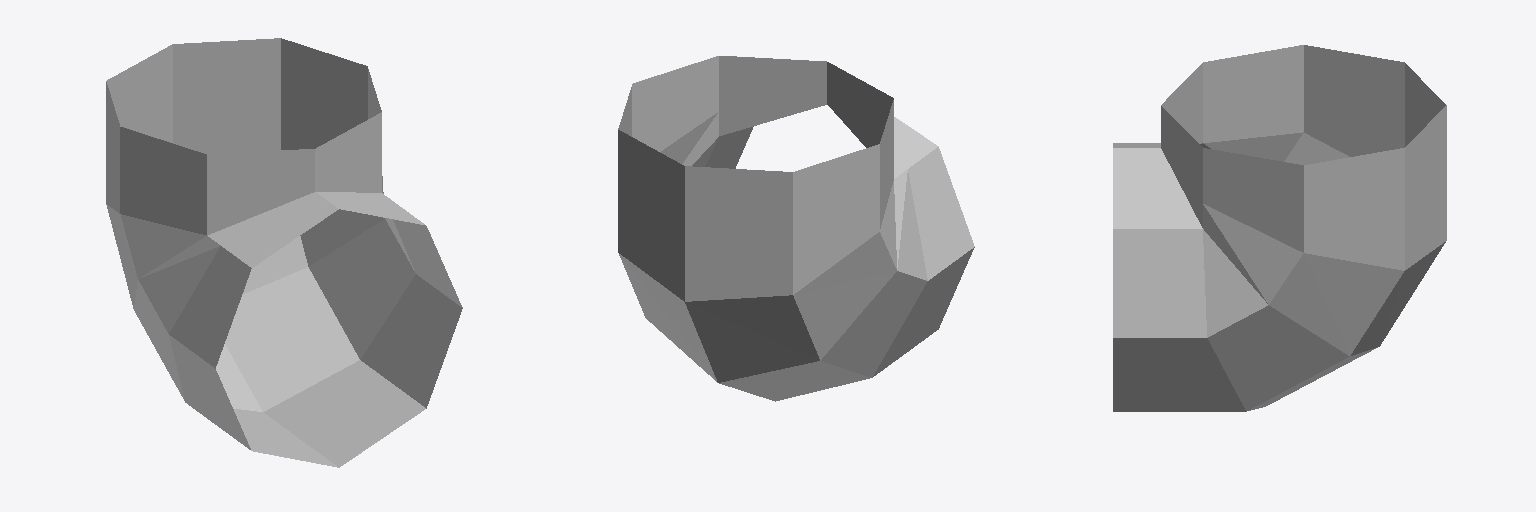
The model's file is ss_pipe_elbow.obj.
3 renders of one model, left to right at view 1: azimuth 30°, elevation 25°; view 2: azimuth 150°, elevation 25°; view 3: azimuth 270°, elevation 25°, orthographic.
Parts seen in each view (by area): view 1: ss_pipe_elbow_Cylinder.000; view 2: ss_pipe_elbow_Cylinder.000; view 3: ss_pipe_elbow_Cylinder.000.
Part boxes in pixels (x1,y1,x2,y2): ss_pipe_elbow_Cylinder.000: (106, 38, 462, 467); ss_pipe_elbow_Cylinder.000: (618, 56, 974, 401); ss_pipe_elbow_Cylinder.000: (1113, 45, 1446, 411).
Size of the model in its own units: 0.75 by 0.875 by 0.875.